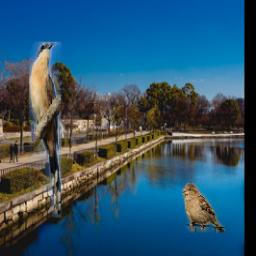Cuckoo: (29, 42, 62, 217)
Sparrow: (183, 183, 226, 232)
